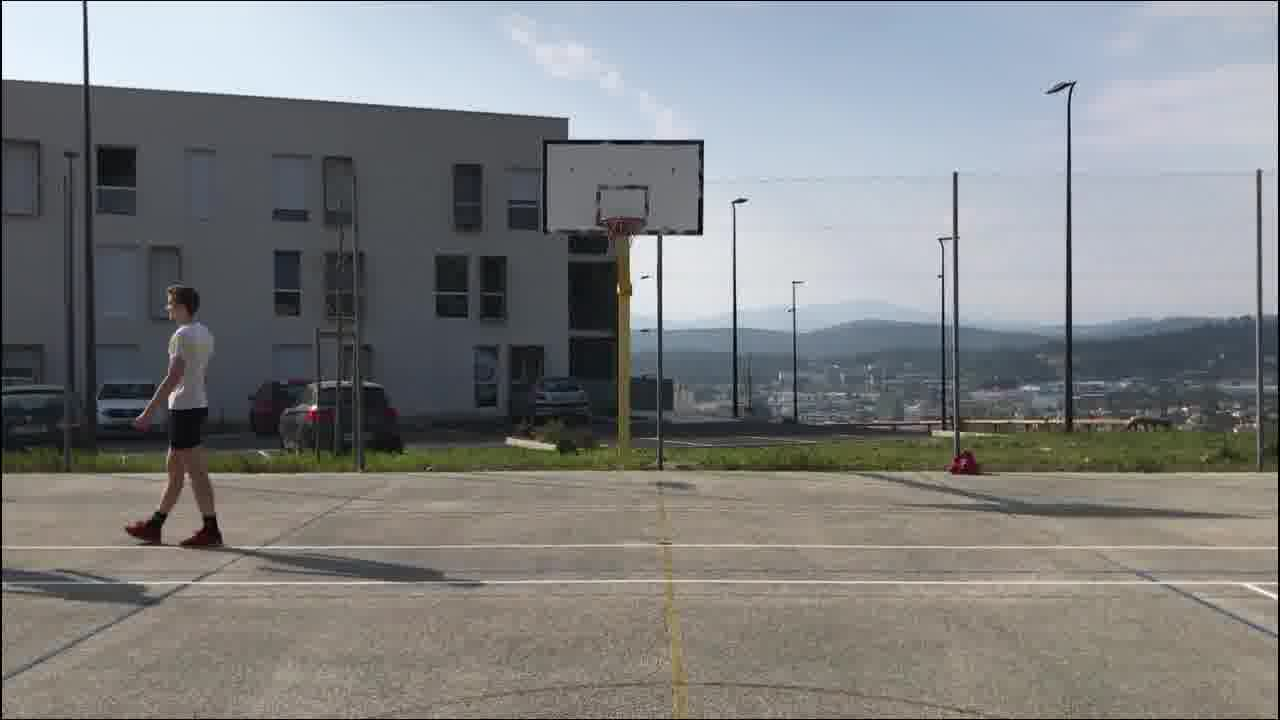jugador: (111, 266, 232, 561)
